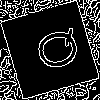Q: (25, 25, 85, 76)
